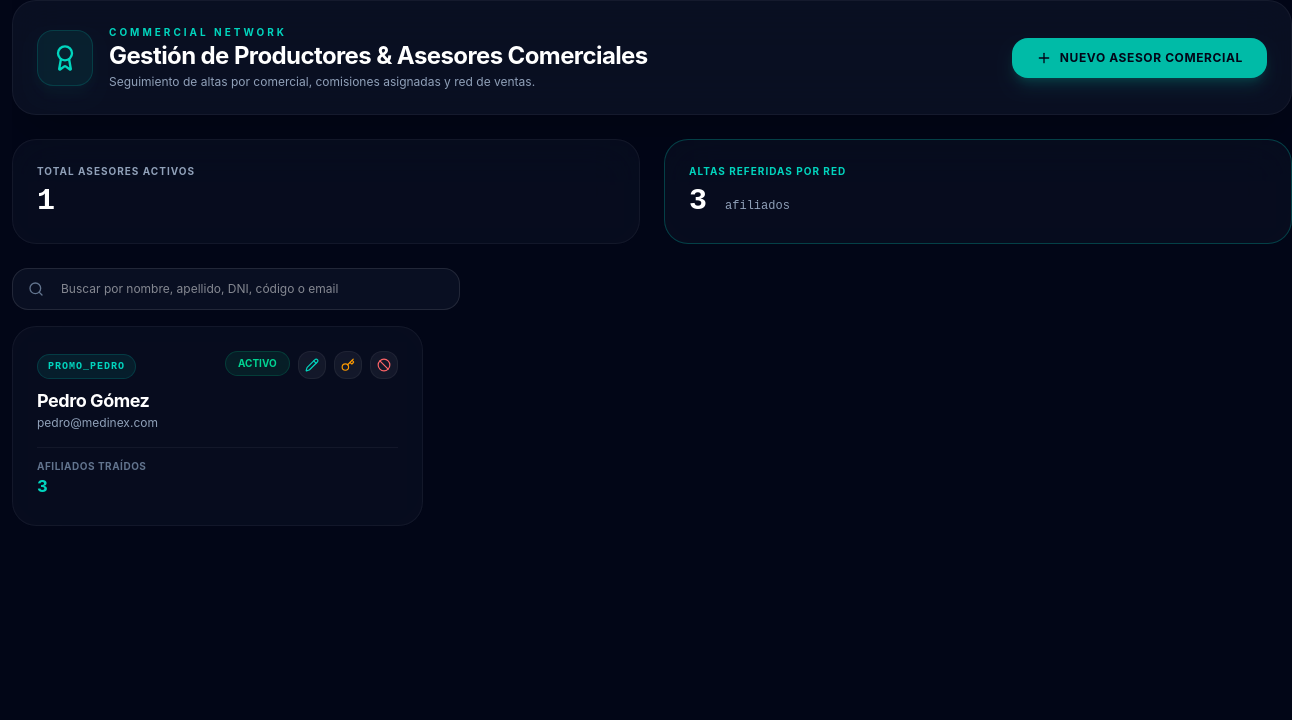
Test case: ProducersAdmin › keeps the previously loaded list and shows an error when the search endpoint fails
Expected: the heading "Pedro Gómez" is shown, 37,387 -> 158,415
In the field with placeholder "Buscar por nombre, apellido, DNI, código o email": (236,289) 12,268 -> 460,310, type "zz"
Wait 300 ms
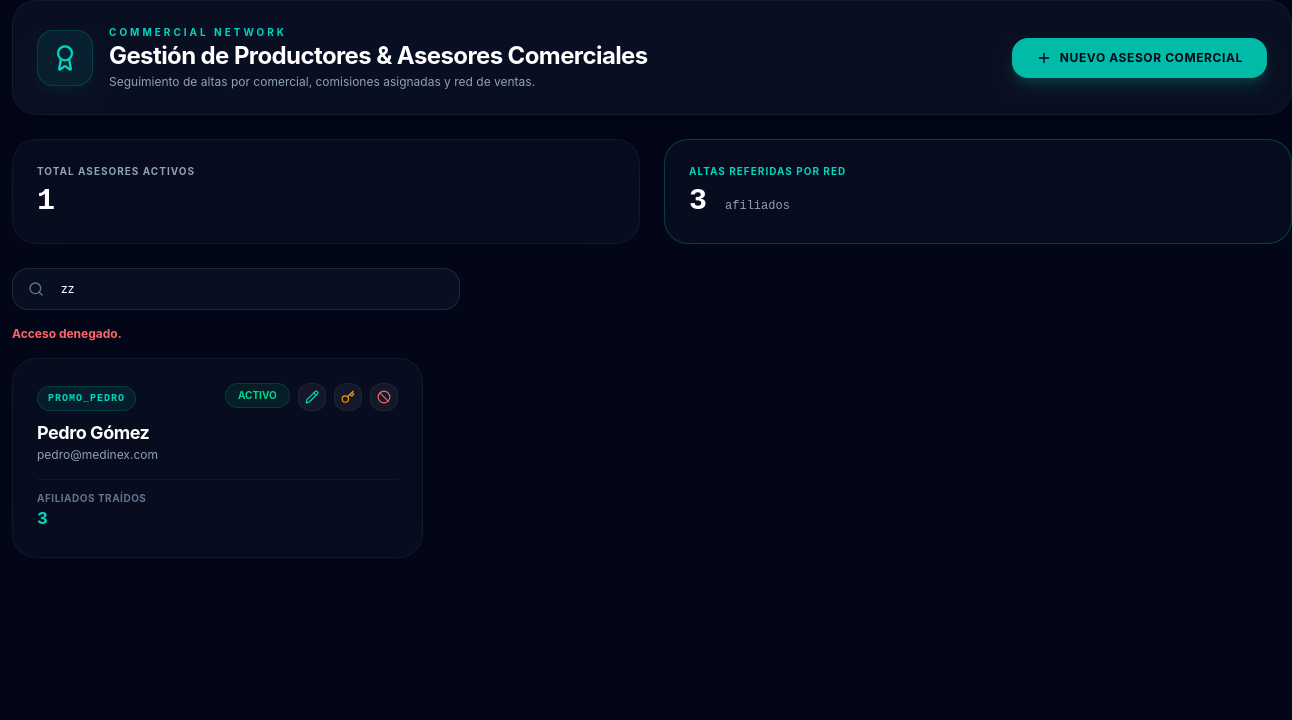
Expected: the heading "Pedro Gómez" is shown, 37,419 -> 158,447
Expected: the text "Acceso denegado." is shown, 12,326 -> 122,341
